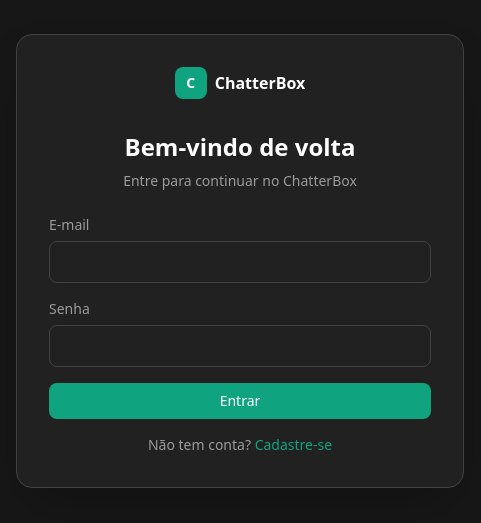
Scenario: LoginPage › exibe erro quando login falha
In the field labelled "E-mail": (240,262) left=49, top=241, right=431, bottom=283, type "user@example.com"
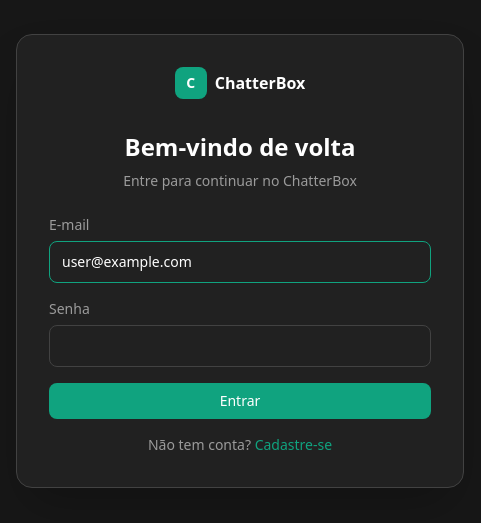
In the password field labelled "Senha": (240,346) left=49, top=325, right=431, bottom=367, type "senhaerrada"
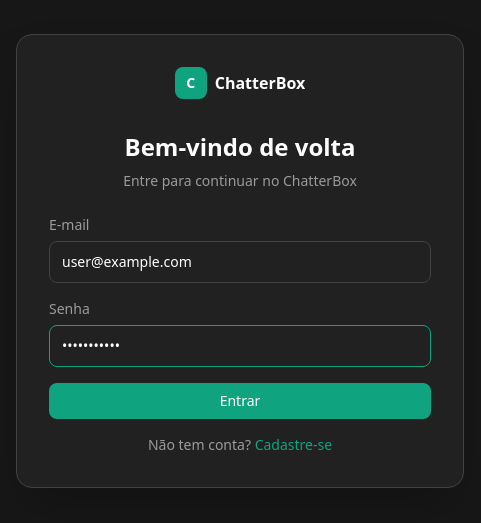
Click the button "Entrar": (240,401) left=49, top=383, right=431, bottom=419
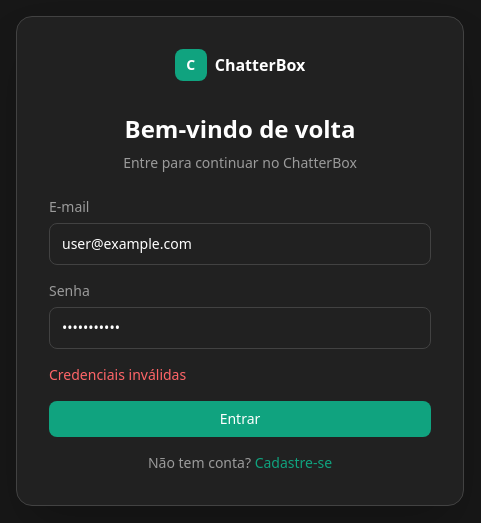
Expected: the text "Credenciais inválidas" is shown, left=49, top=365, right=186, bottom=384
